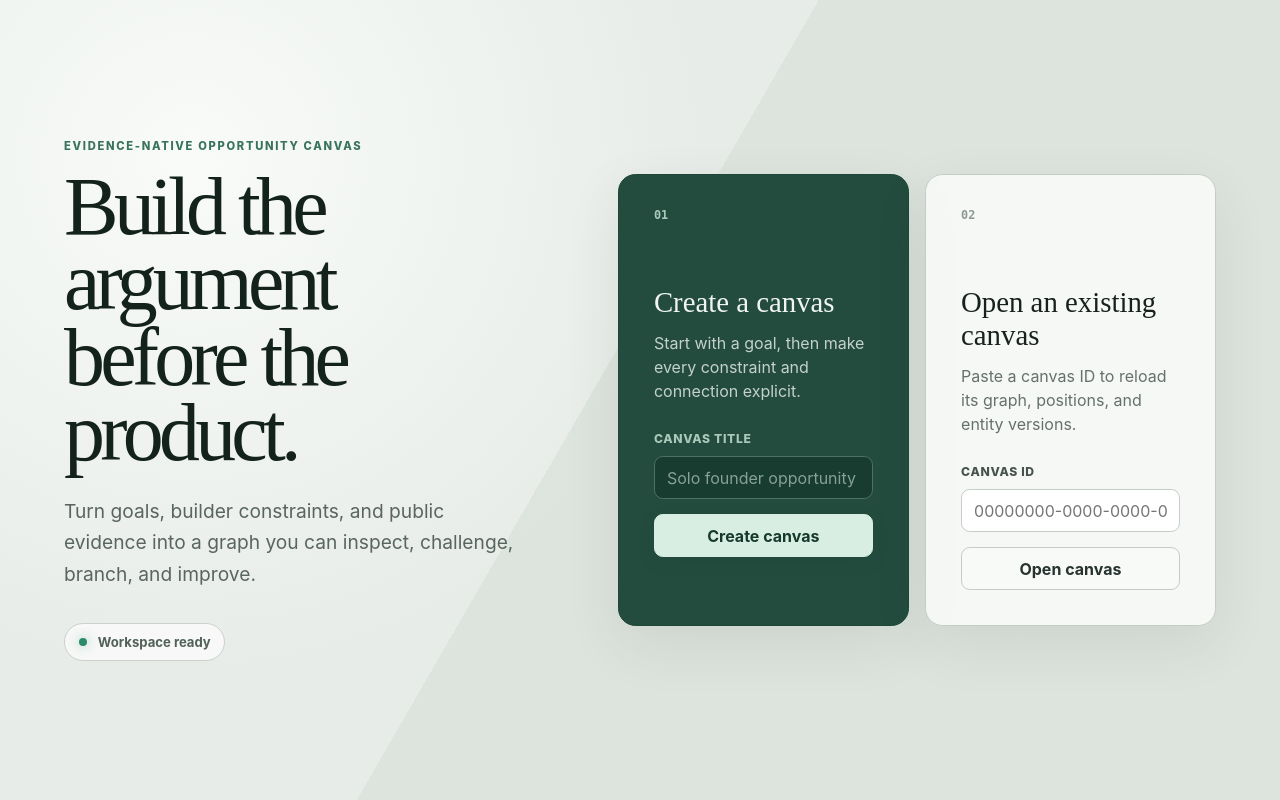
App › adds and removes a typed edge through localized operations
This screenshot has width=1280, height=800.
Expected: the text "Workspace ready" is shown, [64,623,225,661]
In the field labelled "Canvas ID": (1070,511) [961,489,1180,532], type "11111111-1111-4111-8111-111111111111"
Click the button "Open canvas": (1070,569) [961,547,1180,590]
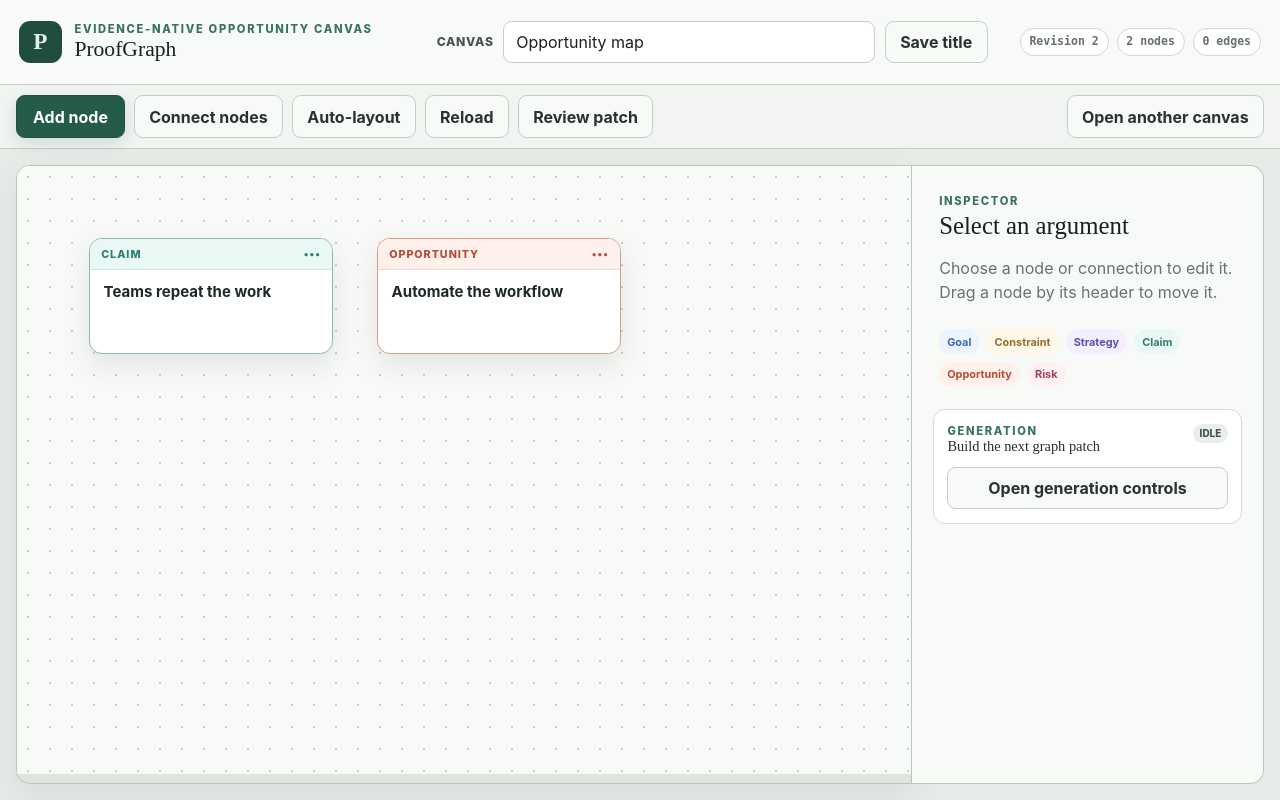
Expected: the field showing "Opportunity map" is shown, [503,20,875,63]
Click the button "Connect nodes": (208,117) [134,95,283,138]
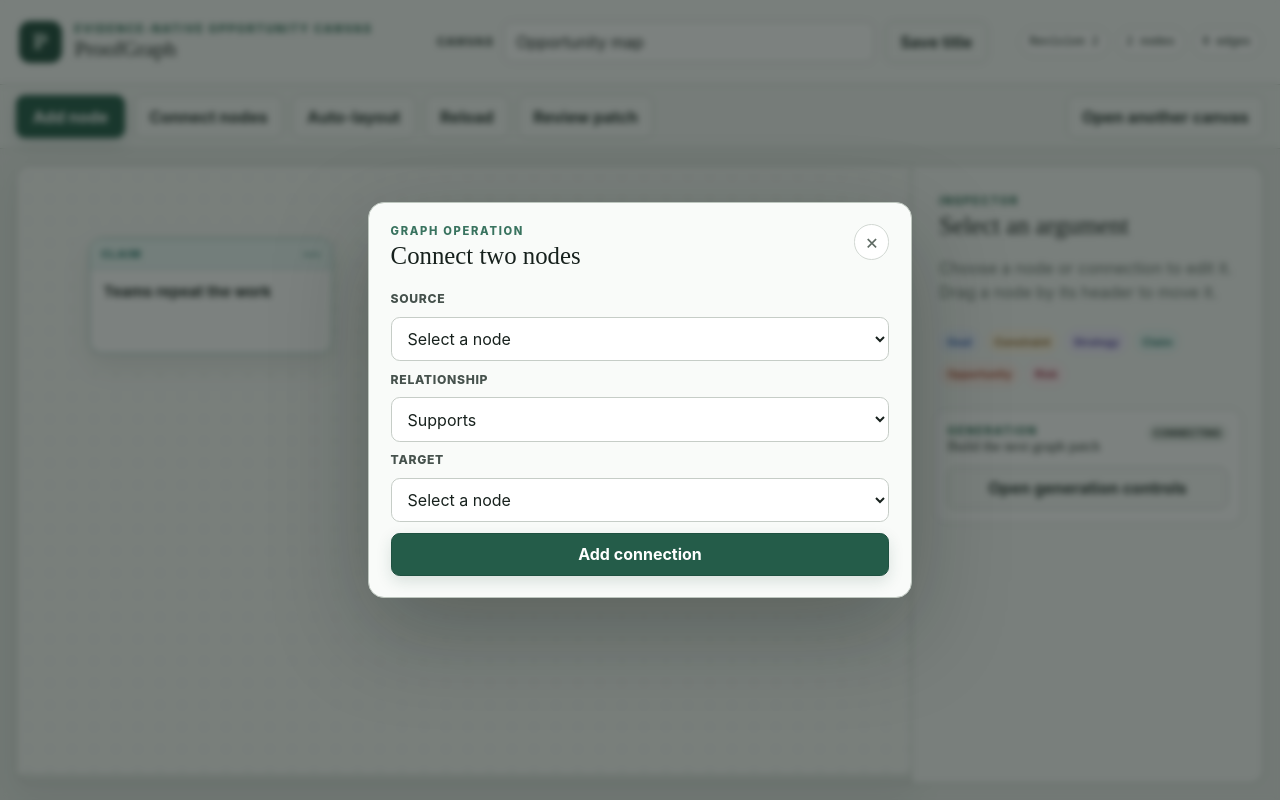
Select "Claim · Teams repeat the work" in the dropdown labelled "Source": (640,339) [391,316,889,361]
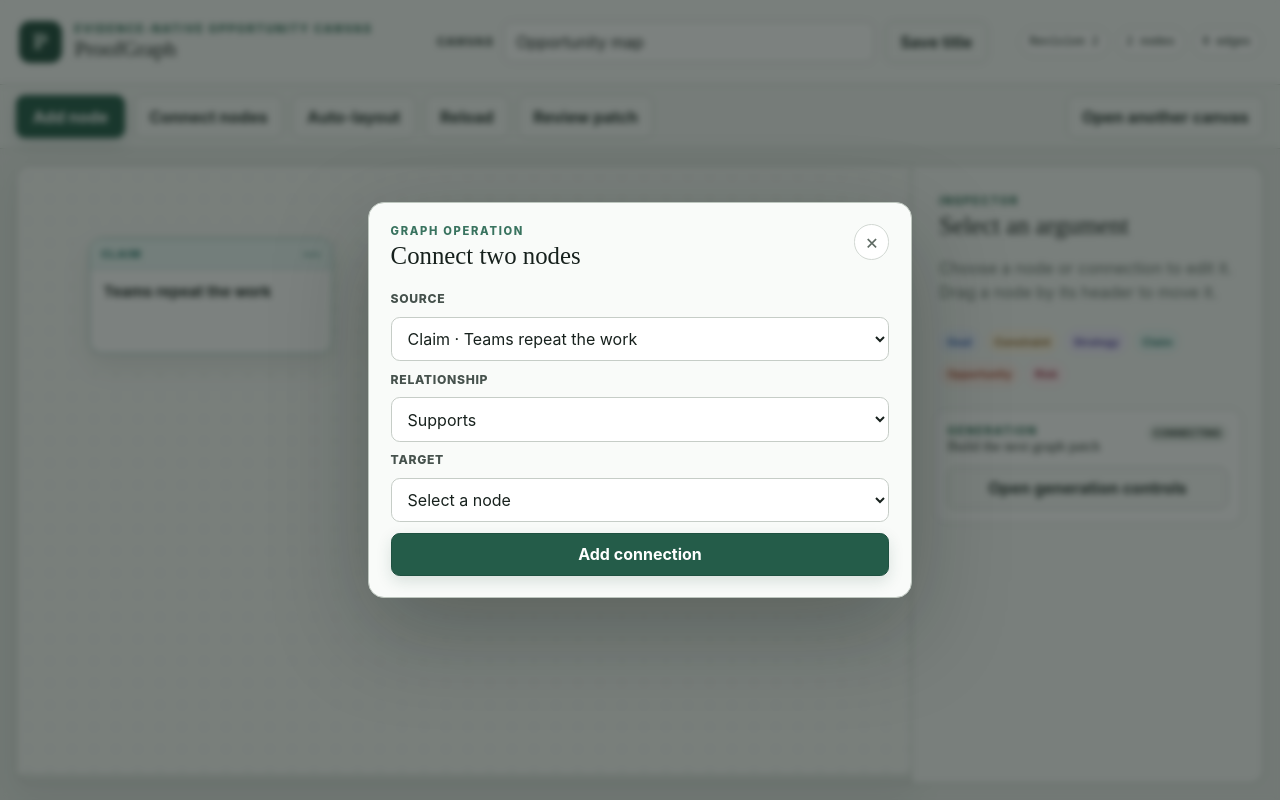
Select "Supports" in the dropdown labelled "Relationship": (640,420) [391,397,889,442]
Select "Opportunity · Automate the workflow" in the dropdown labelled "Target": (640,500) [391,478,889,522]
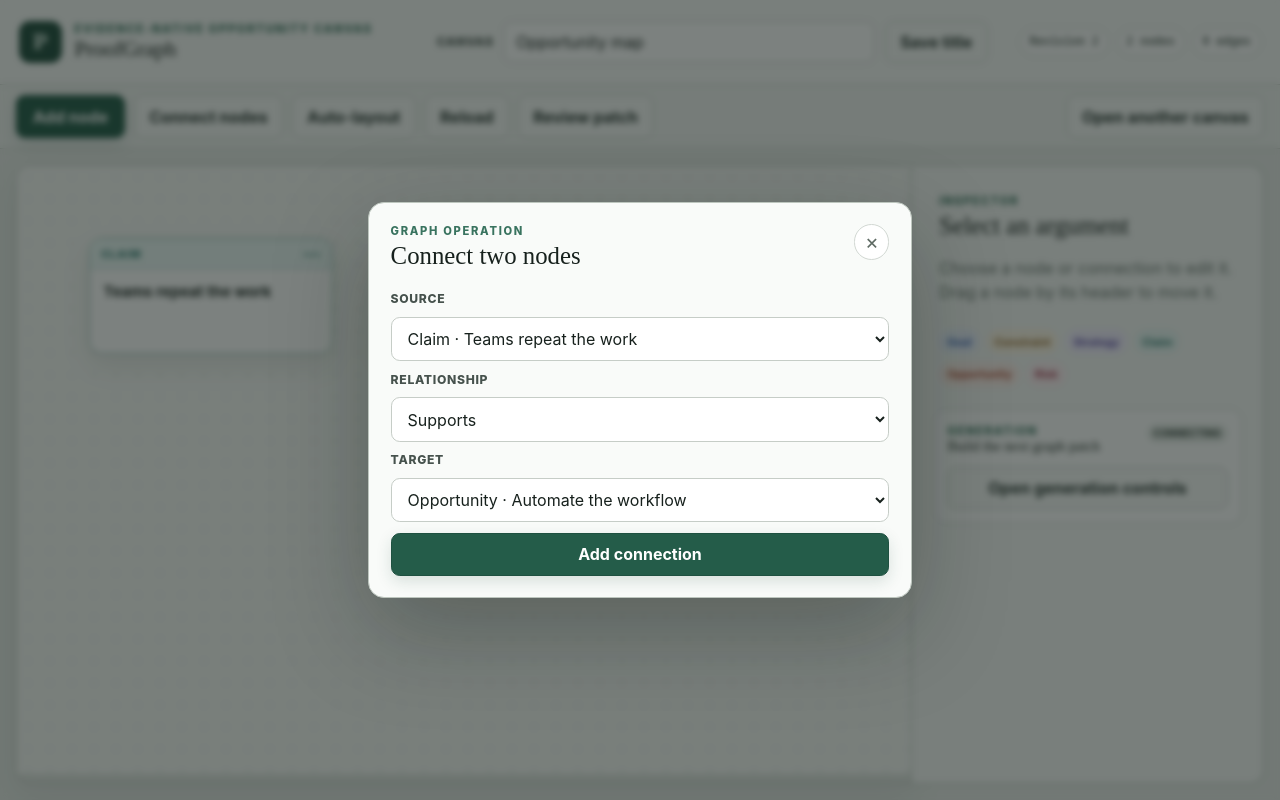
Click the button "Add connection": (640,554) [391,533,889,576]
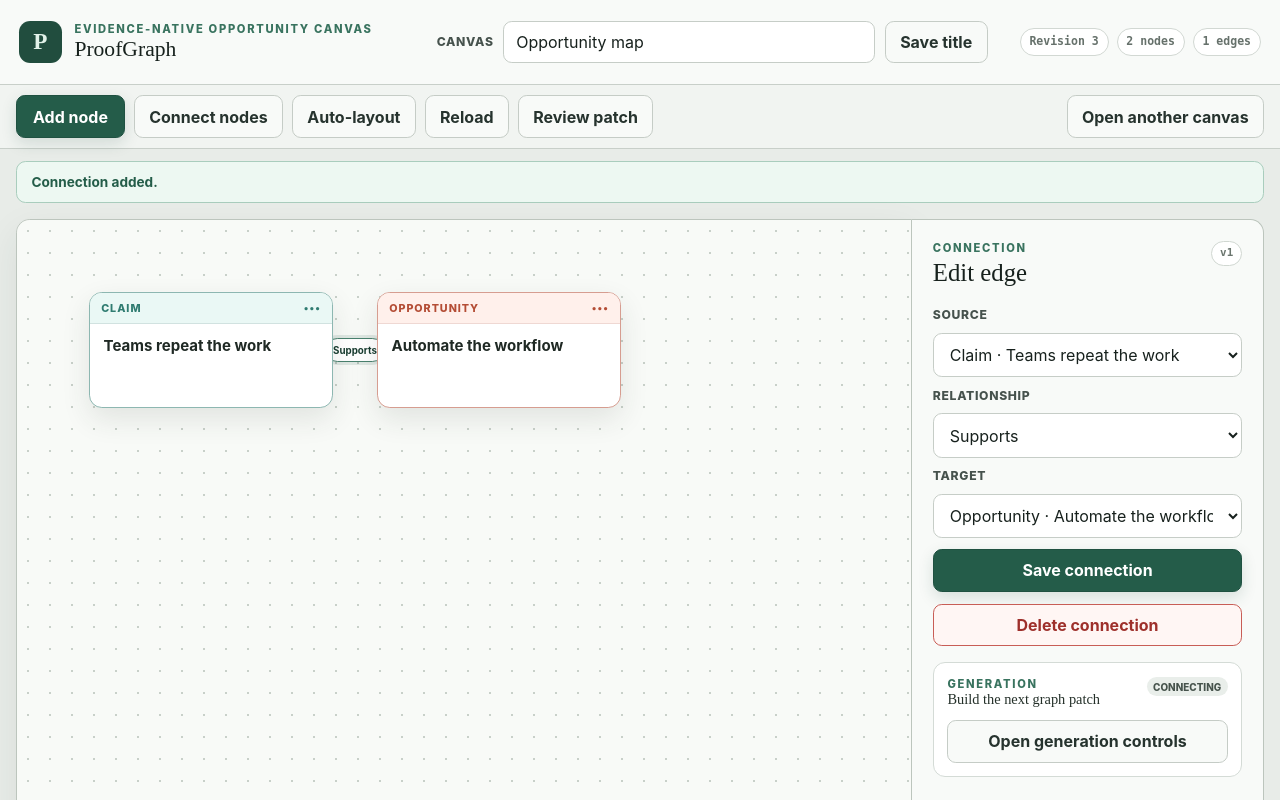
Expected: the text "Connection added." is shown, [16,161,1264,203]
Click the button "Delete connection": (1088,625) [933,604,1242,646]
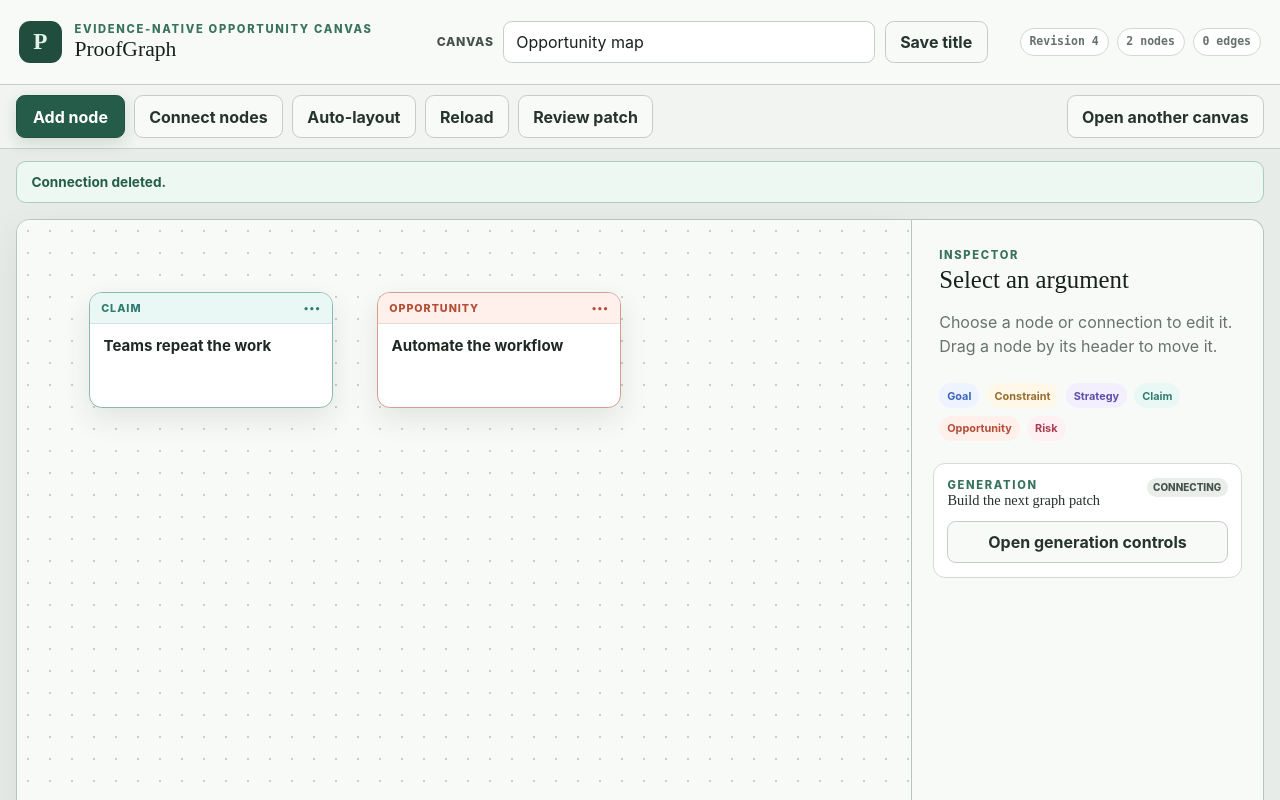
Expected: the text "Connection deleted." is shown, [16,161,1264,203]
